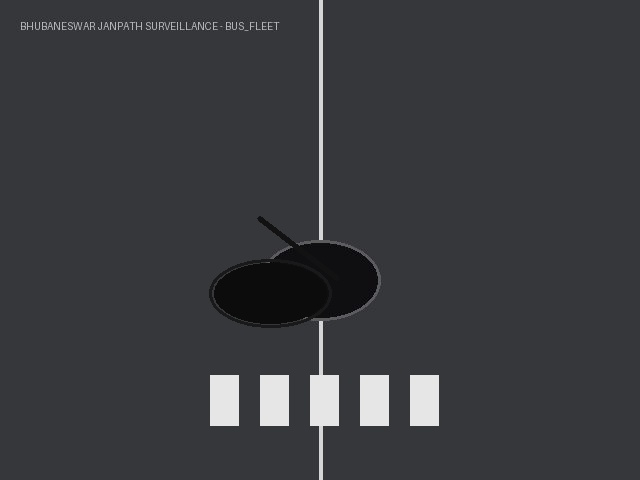crack: (253, 212, 343, 284)
pothole: (214, 263, 326, 323)
zebra_crossing: (190, 370, 450, 430)
